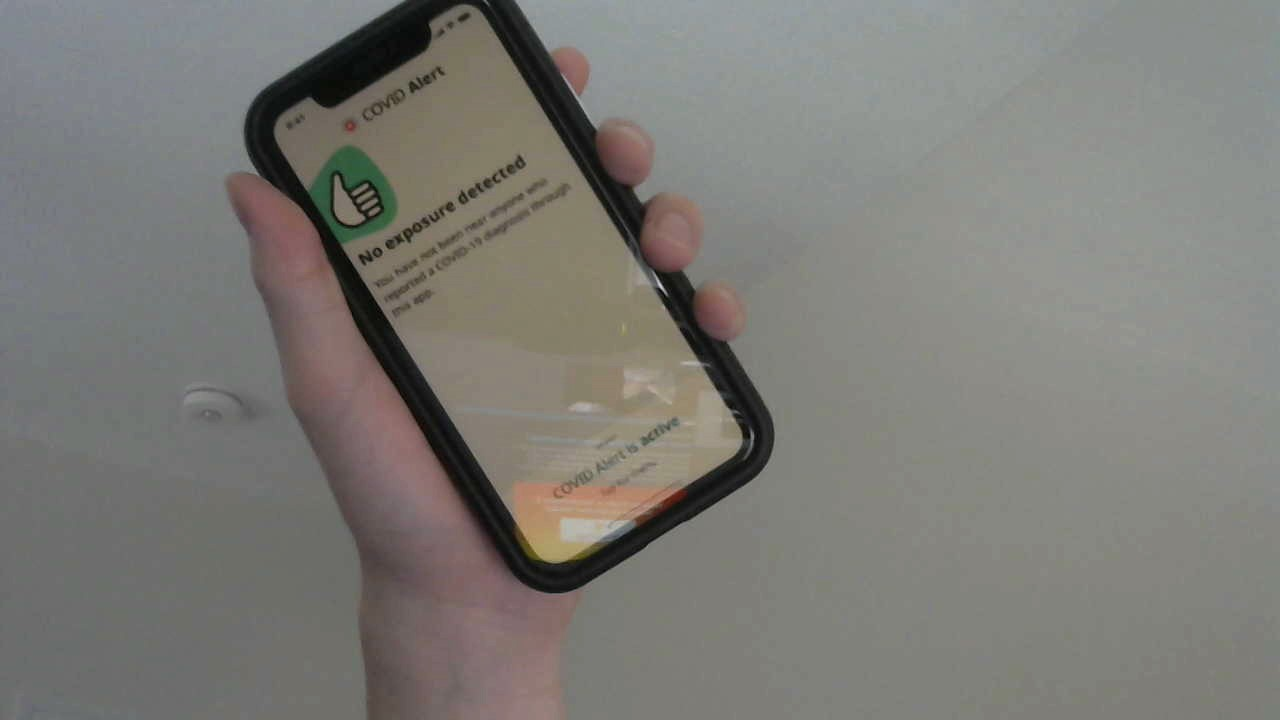Safe: (293, 142, 558, 269)
